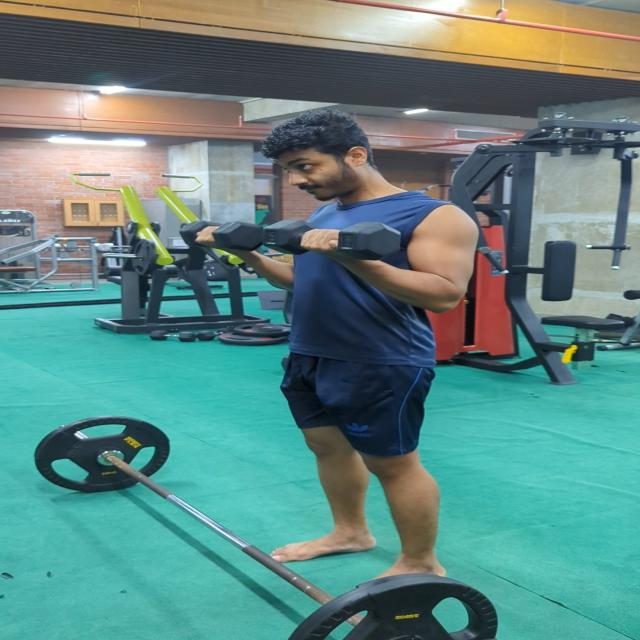Normal_DumbbellBicepCurls: (193, 108, 483, 588)
